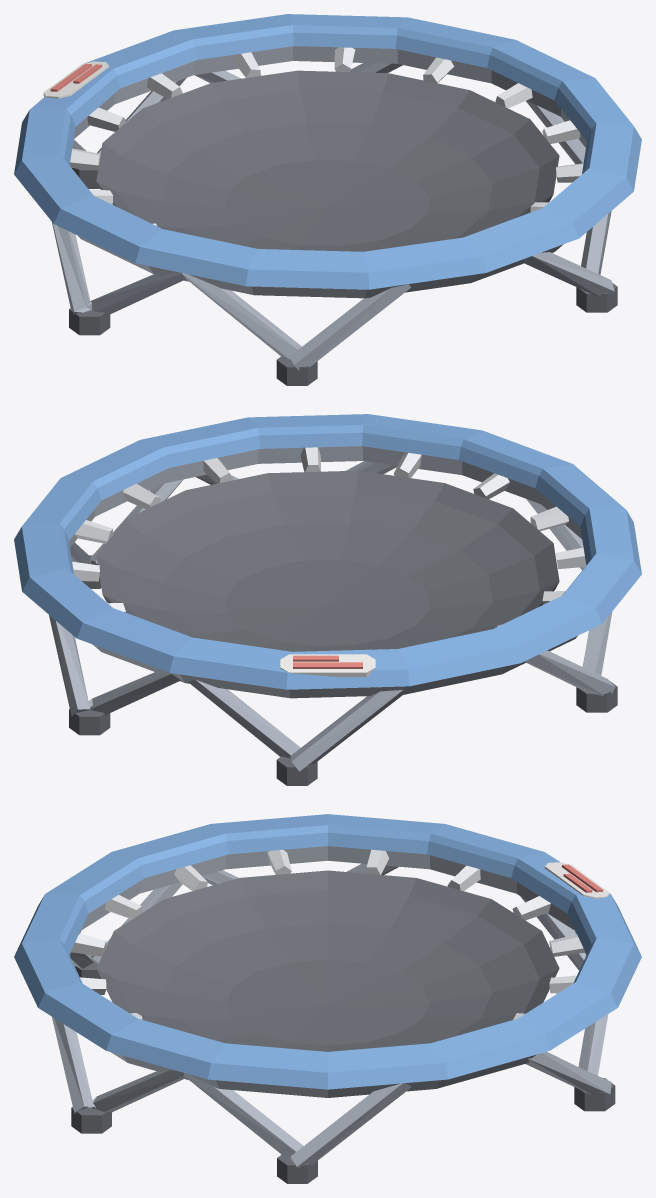
Rendered from Trampoline.fbx.
The picture shows the model from 3 angles, top to bottom: view 1: azimuth 30°, elevation 25°; view 2: azimuth 150°, elevation 25°; view 3: azimuth 270°, elevation 25°; orthographic projection.
Visible parts, largest first — view 1: Trampoline.MatSurface, Trampoline.Pad, Trampoline.Frame, Trampoline.Springs, Trampoline.Feet, Trampoline.LabelPatch; view 2: Trampoline.MatSurface, Trampoline.Pad, Trampoline.Frame, Trampoline.Springs, Trampoline.Feet, Trampoline.LabelPatch, Trampoline.LabelMarks; view 3: Trampoline.MatSurface, Trampoline.Pad, Trampoline.Frame, Trampoline.Springs, Trampoline.Feet, Trampoline.LabelPatch.
Boxes of the visible parts, left/top/right/bottom form: Trampoline.MatSurface: left=96, top=70, right=559, bottom=251; Trampoline.Pad: left=14, top=14, right=641, bottom=289; Trampoline.Frame: left=52, top=46, right=614, bottom=370; Trampoline.Springs: left=69, top=47, right=583, bottom=225; Trampoline.Feet: left=69, top=167, right=617, bottom=385; Trampoline.LabelPatch: left=43, top=61, right=109, bottom=98; Trampoline.MatSurface: left=96, top=470, right=559, bottom=651; Trampoline.Pad: left=14, top=414, right=641, bottom=689; Trampoline.Frame: left=49, top=446, right=615, bottom=771; Trampoline.Springs: left=72, top=447, right=586, bottom=626; Trampoline.Feet: left=69, top=555, right=617, bottom=785; Trampoline.LabelPatch: left=280, top=654, right=375, bottom=676; Trampoline.LabelMarks: left=293, top=655, right=362, bottom=668; Trampoline.MatSurface: left=96, top=870, right=559, bottom=1051; Trampoline.Pad: left=14, top=814, right=641, bottom=1089; Trampoline.Frame: left=52, top=846, right=611, bottom=1168; Trampoline.Springs: left=71, top=849, right=584, bottom=1019; Trampoline.Feet: left=71, top=955, right=615, bottom=1183; Trampoline.LabelPatch: left=545, top=862, right=610, bottom=898.
Size of the model in its own units: 8 by 1.64 by 8.
